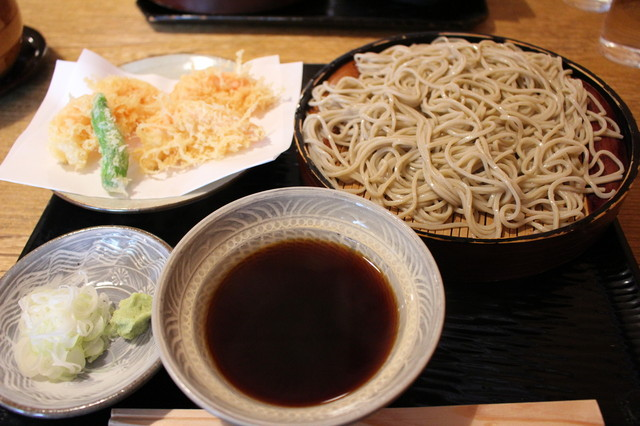Soba: (309, 37, 627, 232)
